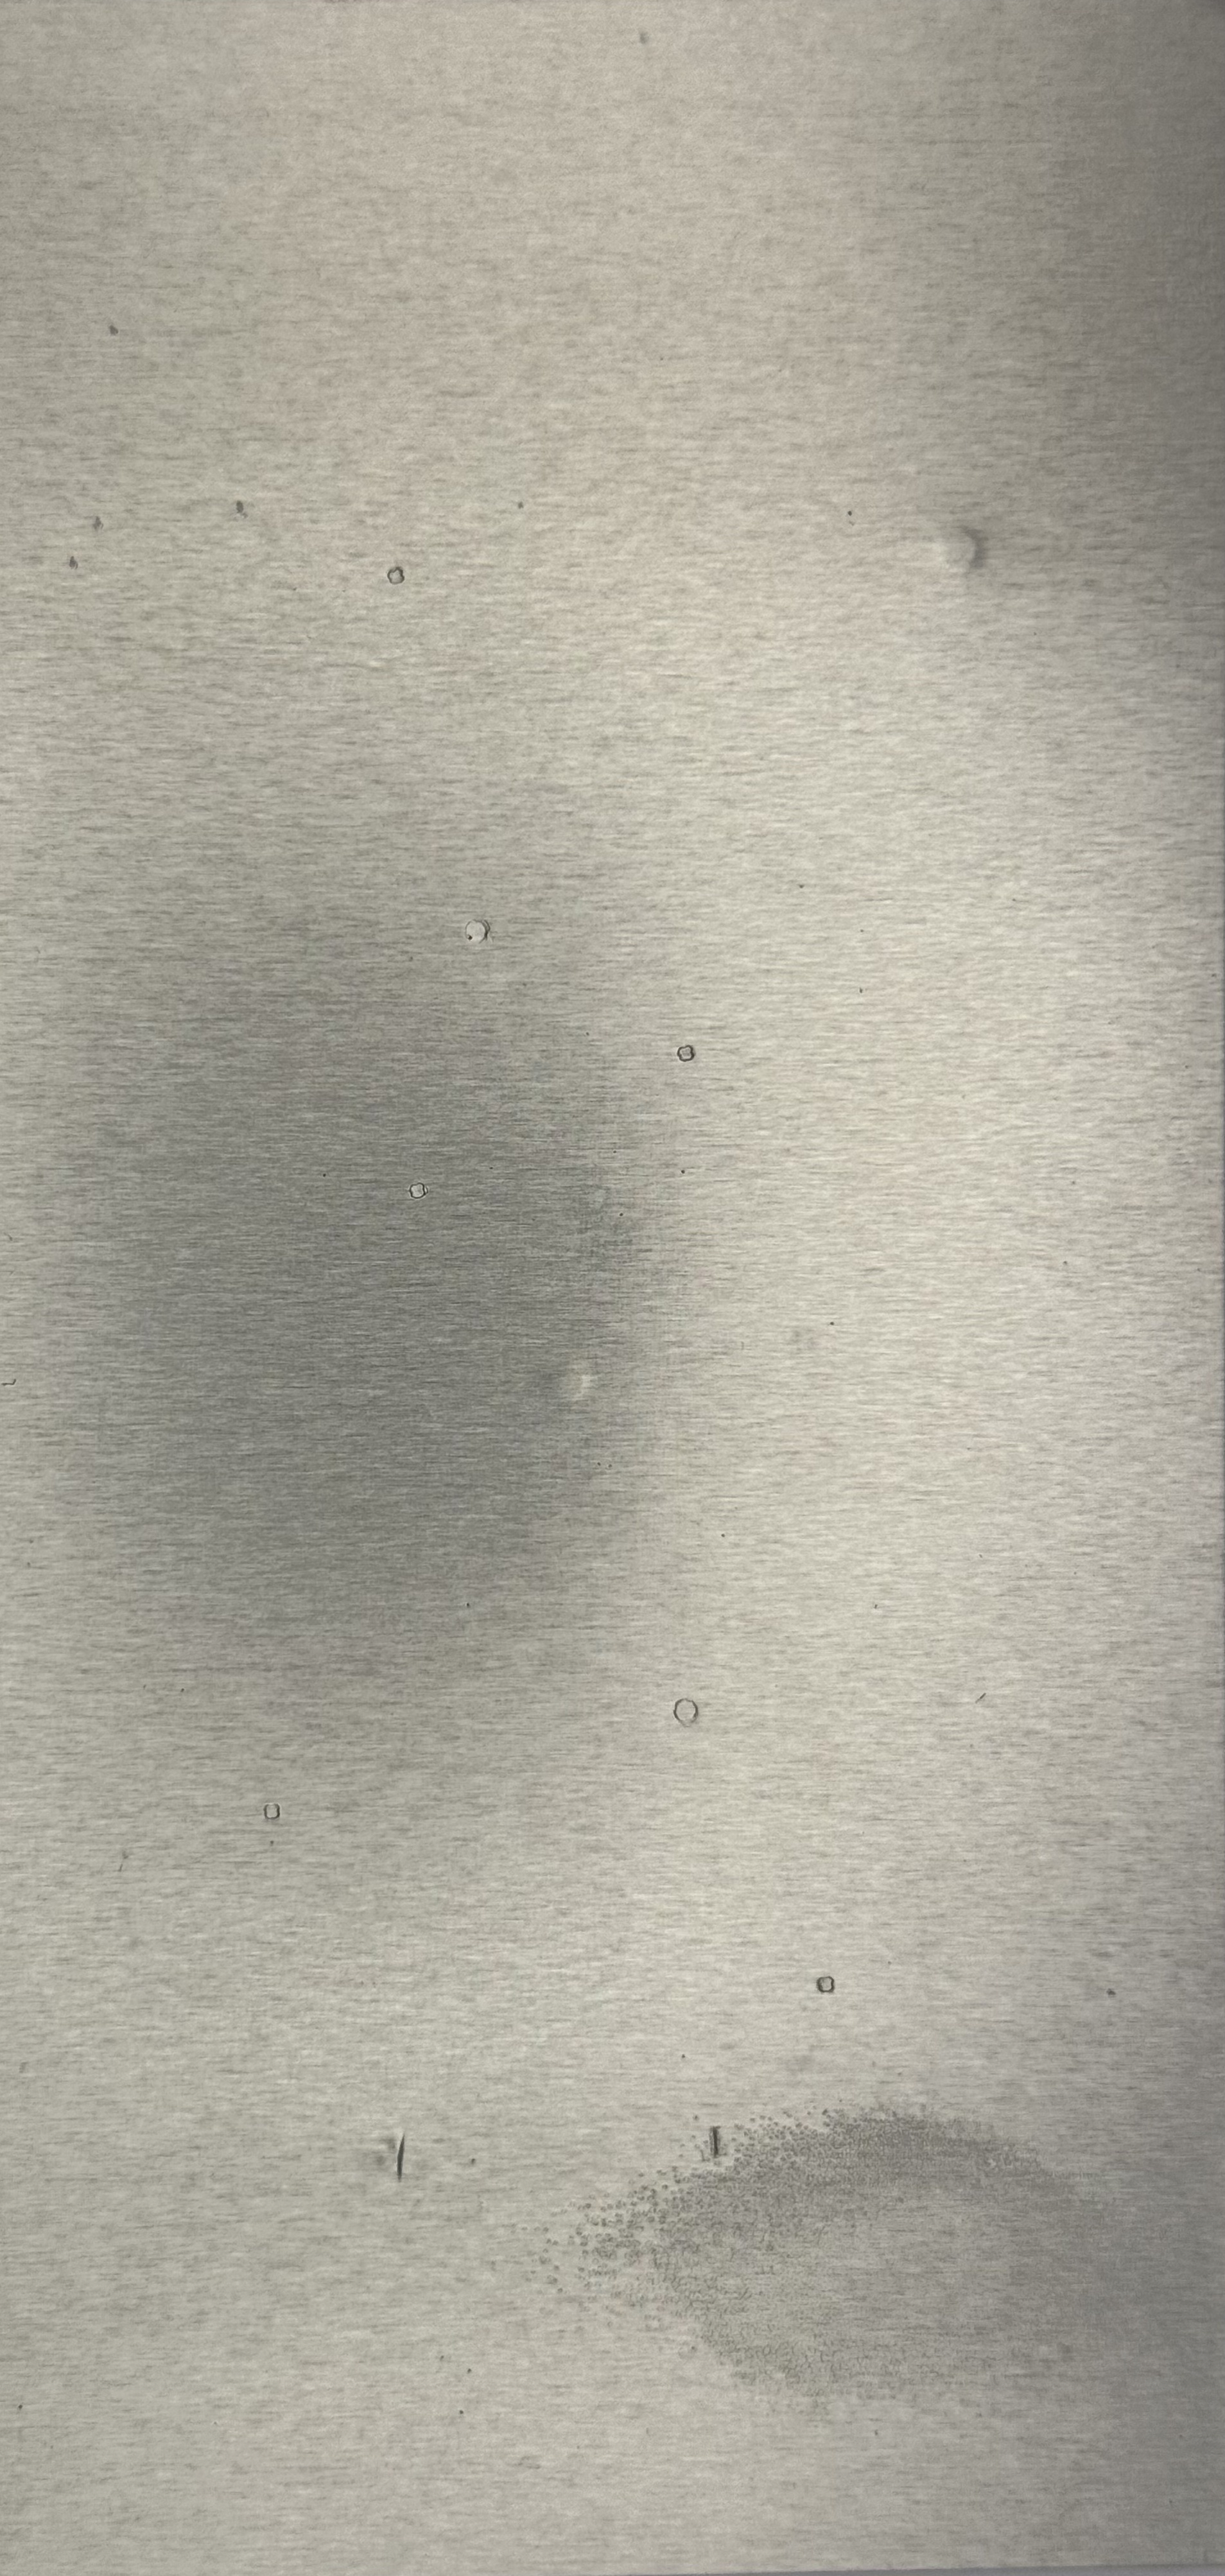Delle: (319, 2109, 437, 2210), (908, 503, 1018, 596), (512, 1339, 622, 1426), (448, 897, 506, 964), (660, 1676, 709, 1741), (245, 1787, 301, 1840), (366, 550, 424, 601), (800, 1963, 856, 2011), (662, 1032, 721, 1073), (399, 1171, 447, 1217)
